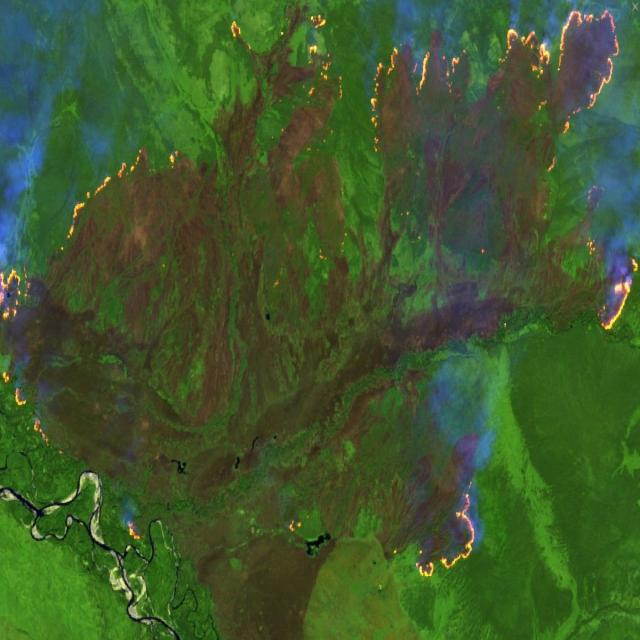fire: (367, 0, 640, 336), (0, 130, 145, 458), (224, 6, 349, 107), (410, 474, 483, 591)
